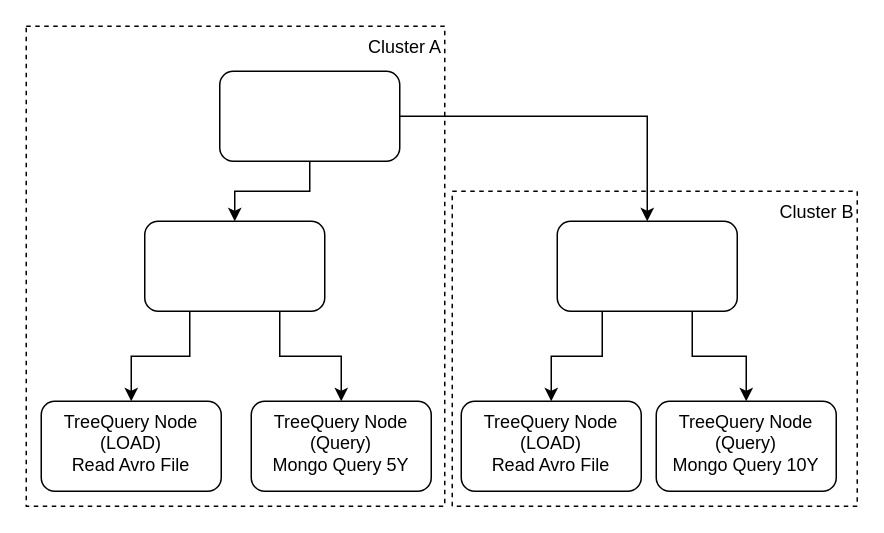
Image size: 884x533. Some labels were removed from this diagram. Here are the shapes that lost their labels. From the top down, the centre of each, then its label:
At point (309, 115): "TreeQuery Node (Flatten)".
At point (234, 265): "TreeQuery Node (INNER_JOIN) 5Y".
At point (646, 265): "TreeQuery Node (INNER_JOIN) 10Y".
